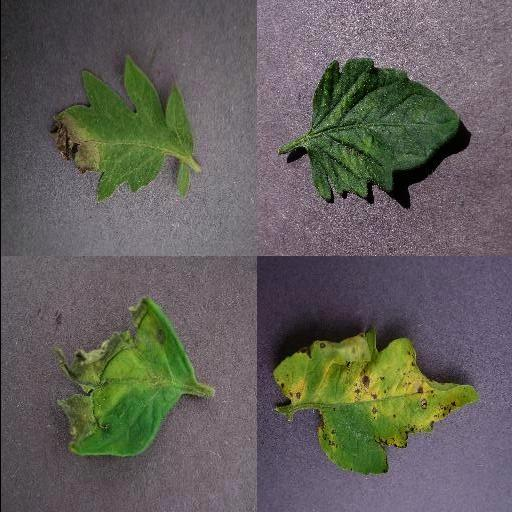Late Blight: (53, 296, 201, 458), (45, 52, 193, 198)
Mosaic Virus: (307, 58, 459, 204)
Septoria: (269, 325, 481, 473)
